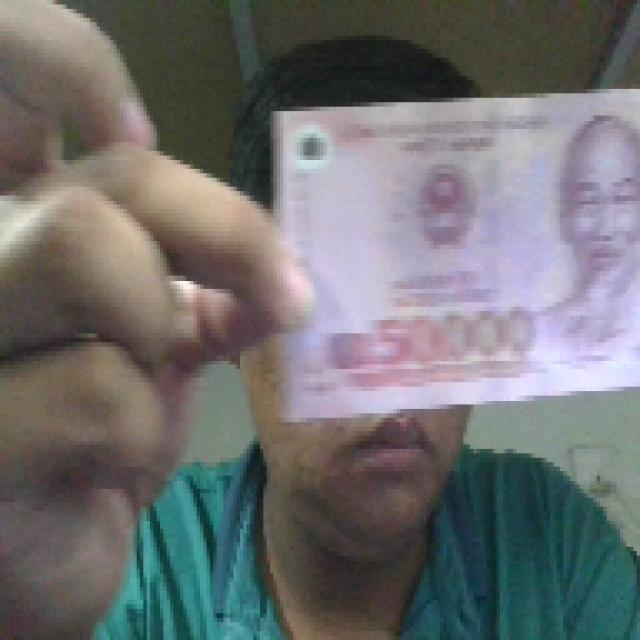50 000 VND: (263, 80, 637, 422)
